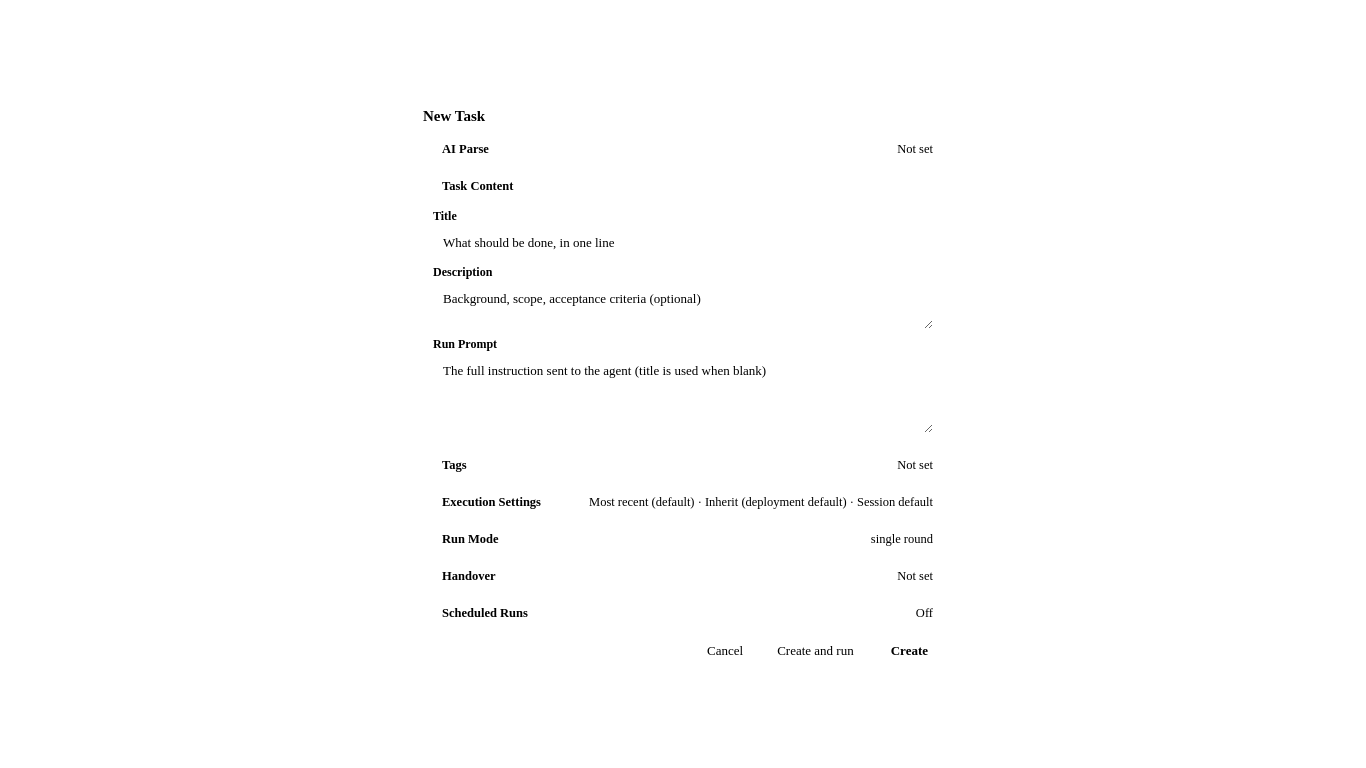
new-task AI parse section (#1540) › user sees a remembered model the roster dropped fall back to the default (#1621)
Click the button "AI Parse Not set": (465, 149) [423,135,943,164]
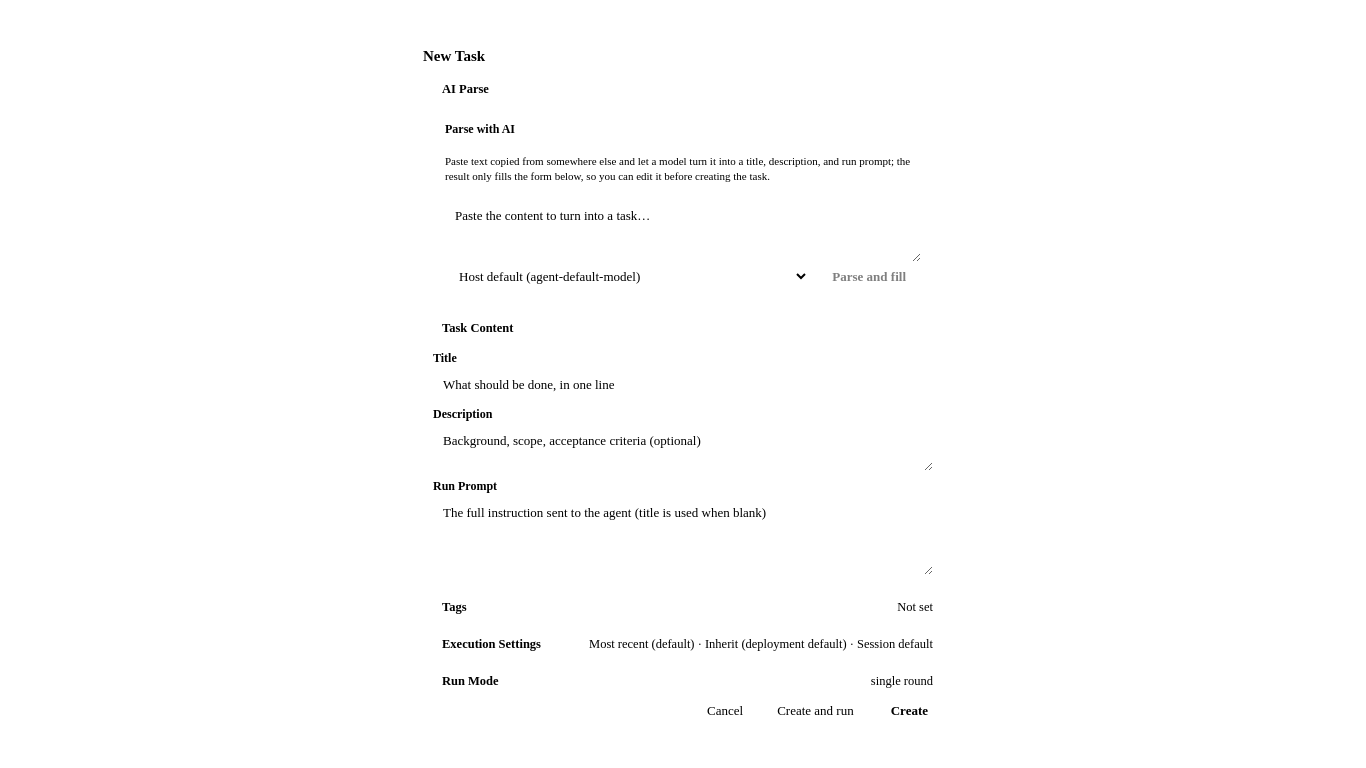
Now the dropdown named "Model used for parsing" shows "Host default (agent-default-model)", box [445,268,809,285]
